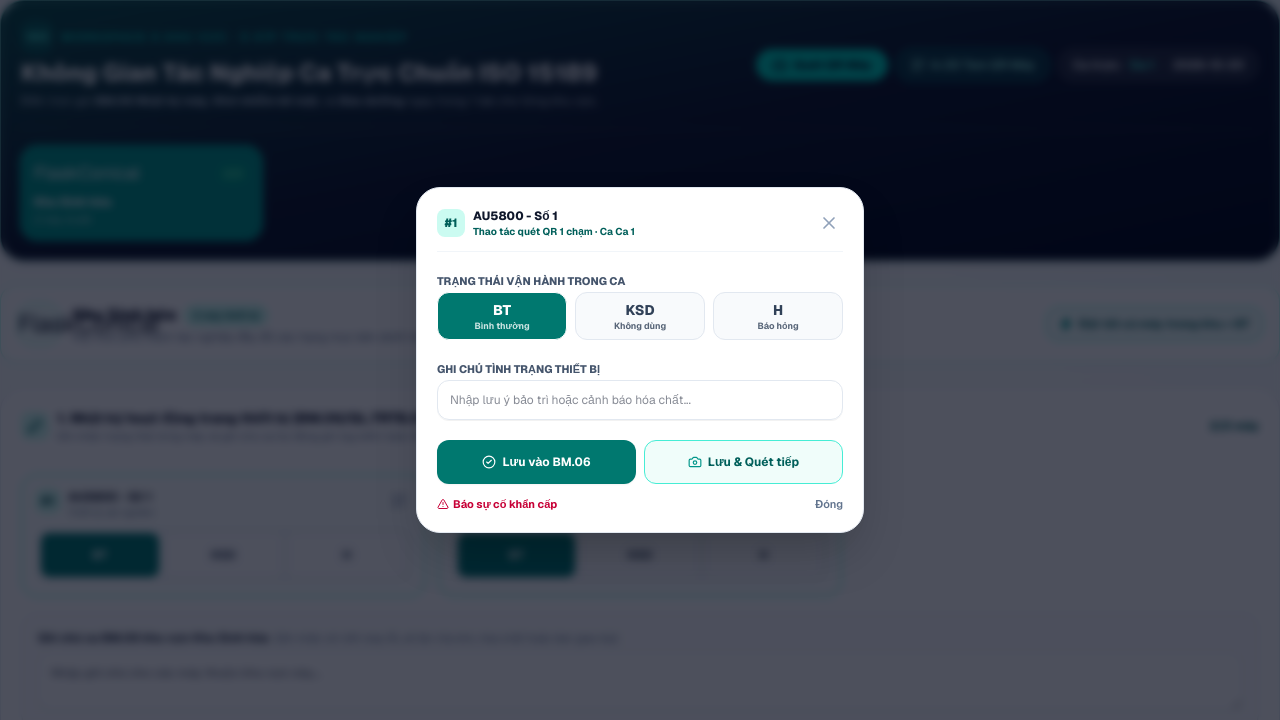
Test: TASK 01: QR BM06 Concurrency, Offline Queue, and UI Truthfulness › Requirement 1 & 3: Single machine save sends ONLY target machine and displays 'Đã lưu' only after Supabase confirms
# Click "Lưu vào BM.06"
Click the button "Lưu vào BM.06": click(536, 462) [437,440,636,484]
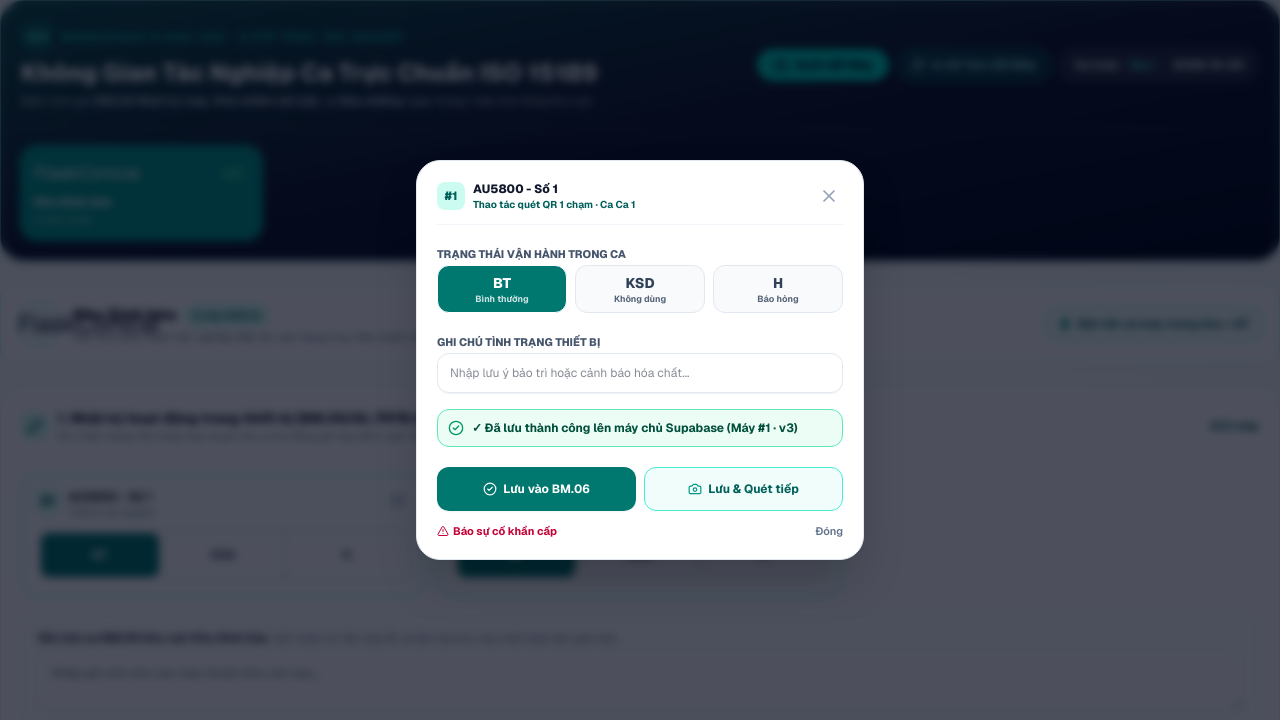
Now the text "✓ Đã lưu thành công lên máy chủ Supabase (Máy #1 · v3)" is shown, box [472,420,798,436]
